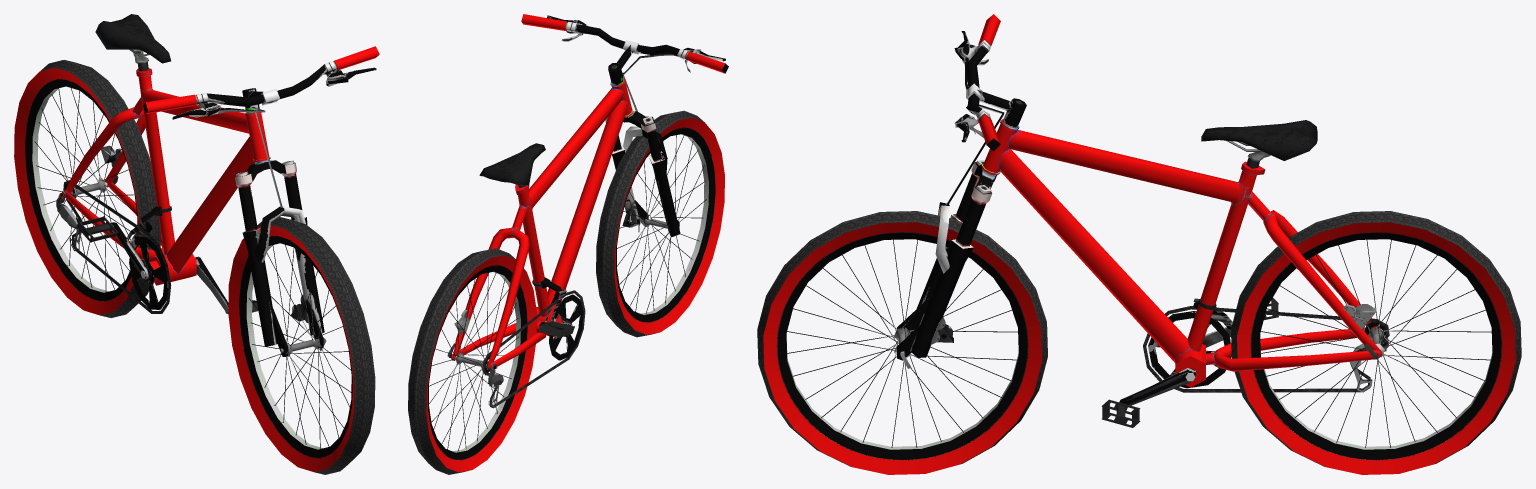
The model's file is Red_.fbx.
3 renders of one model, left to right at view 1: azimuth 30°, elevation 25°; view 2: azimuth 150°, elevation 25°; view 3: azimuth 270°, elevation 25°, orthographic. The views are drawn at different scales.
Visible parts, largest first — view 1: bike_wheel_front, bike_wheel_rear, bike_seat.001, bike_seat.004, bike_seat.003, bike_chain_set, bike_seat.002, bike_chain, bike_seat.005, bike_pedal_R, bike_seat, bike_seat.007; view 2: bike_wheel_front, bike_wheel_rear, bike_seat.001, bike_seat.003, bike_seat.004, bike_seat.002, bike_chain_set, bike_chain, bike_seat, bike_seat.005, bike_pedal_R; view 3: bike_wheel_rear, bike_wheel_front, bike_seat.001, bike_seat.004, bike_seat.003, bike_seat.002, bike_chain_set, bike_chain, bike_seat.005, bike_seat.
Part boxes in pixels (left/top/right/bottom): bike_wheel_front: left=228, top=217, right=375, bottom=474; bike_wheel_rear: left=14, top=60, right=160, bottom=317; bike_seat.001: left=63, top=68, right=270, bottom=285; bike_seat.004: left=235, top=160, right=324, bottom=346; bike_seat.003: left=143, top=46, right=379, bottom=207; bike_chain_set: left=111, top=222, right=228, bottom=312; bike_seat.002: left=95, top=14, right=170, bottom=71; bike_chain: left=63, top=180, right=171, bottom=313; bike_seat.005: left=272, top=294, right=326, bottom=356; bike_pedal_R: left=76, top=216, right=118, bottom=242; bike_seat: left=101, top=145, right=152, bottom=243; bike_seat.007: left=56, top=191, right=82, bottom=251; bike_wheel_front: left=596, top=110, right=724, bottom=337; bike_wheel_rear: left=408, top=248, right=536, bottom=474; bike_seat.001: left=451, top=78, right=632, bottom=369; bike_seat.003: left=521, top=14, right=728, bottom=111; bike_seat.004: left=605, top=110, right=680, bottom=237; bike_seat.002: left=479, top=143, right=545, bottom=187; bike_chain_set: left=539, top=294, right=583, bottom=360; bike_chain: left=482, top=290, right=585, bottom=408; bike_seat: left=447, top=288, right=566, bottom=357; bike_seat.005: left=622, top=200, right=679, bottom=232; bike_pedal_R: left=538, top=321, right=574, bottom=337; bike_wheel_rear: left=1231, top=211, right=1521, bottom=474; bike_wheel_front: left=757, top=211, right=1047, bottom=474; bike_seat.001: left=981, top=119, right=1381, bottom=387; bike_seat.004: left=910, top=160, right=996, bottom=357; bike_seat.003: left=945, top=14, right=1026, bottom=205; bike_seat.002: left=1201, top=120, right=1317, bottom=168; bike_chain_set: left=1119, top=311, right=1231, bottom=405; bike_chain: left=1143, top=306, right=1389, bottom=392; bike_seat.005: left=897, top=298, right=953, bottom=368; bike_seat: left=1193, top=298, right=1378, bottom=359.
Size of the model in its own units: 65.68 by 97.62 by 170.
